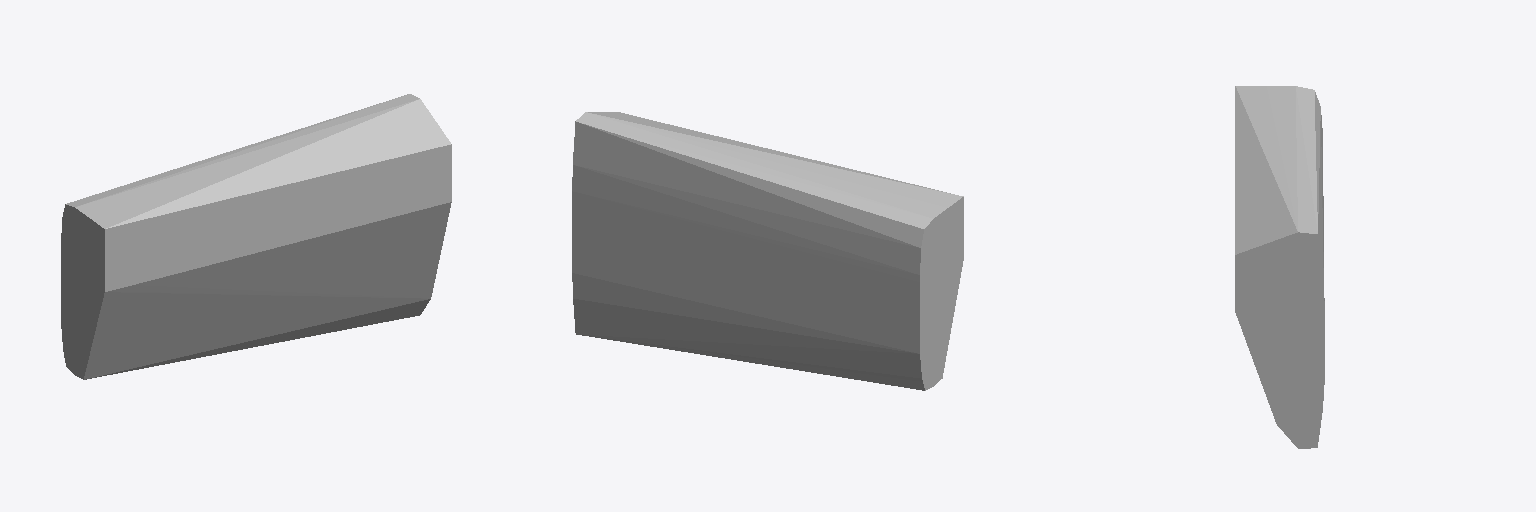
The model's file is work_bench_collision_2.obj.
3 renders of one model, left to right at view 1: azimuth 30°, elevation 25°; view 2: azimuth 150°, elevation 25°; view 3: azimuth 270°, elevation 25°, orthographic.
Bounding box in the file's own units: 0.2554 × 0.1524 × 0.0569.